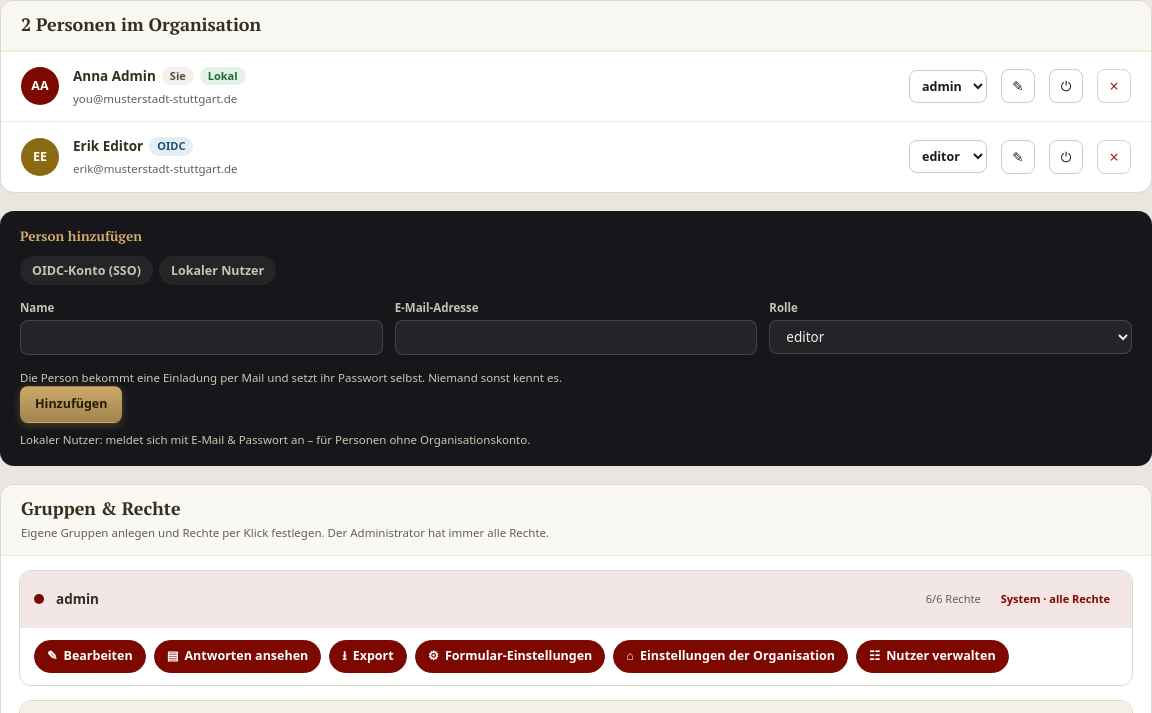
Test: Nutzerrechte (Tenant-Ebene) › names the account loss conditionally, without asking about other Organisationen
Expected: the text "Erik Editor" is shown, [73,136,143,156]
What coordinates should you click on to do the following:
click the button named "Erik Editor entfernen"
I would click on:
 (1114, 157)
Its box is [1097,140,1131,174].
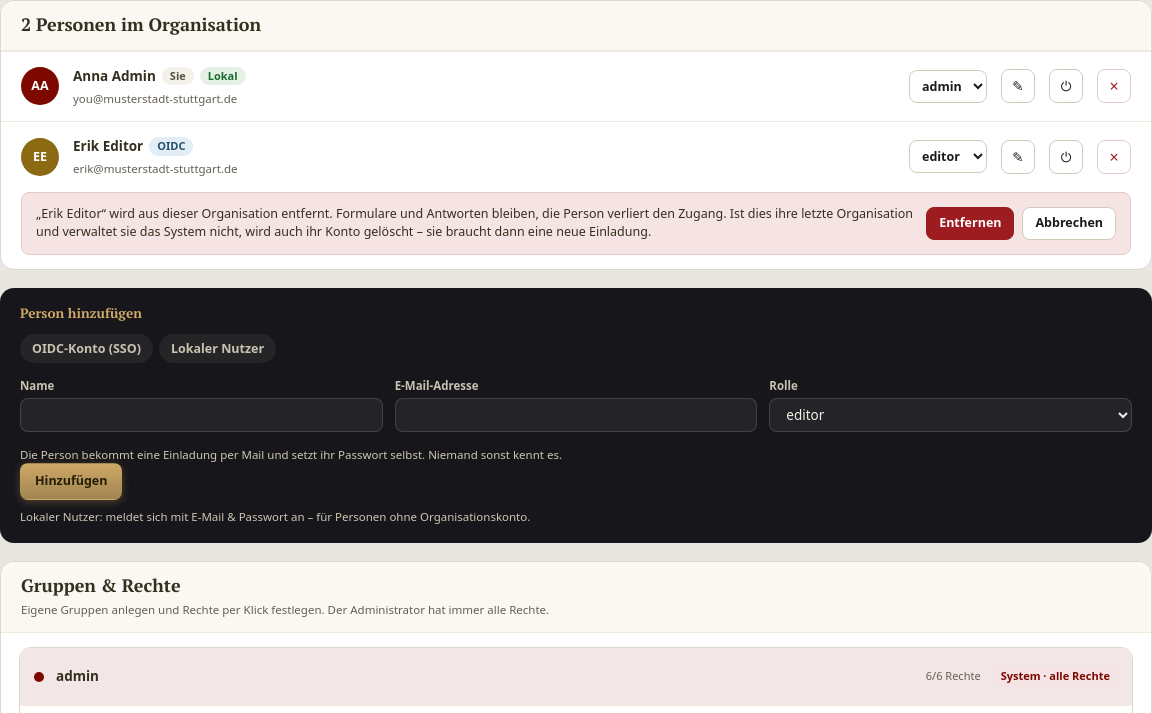
Result: the text "Ist dies ihre letzte Organisation und verwaltet sie das System nicht, wird auch ihr Konto gelöscht" is shown at [36,205,913,240]
